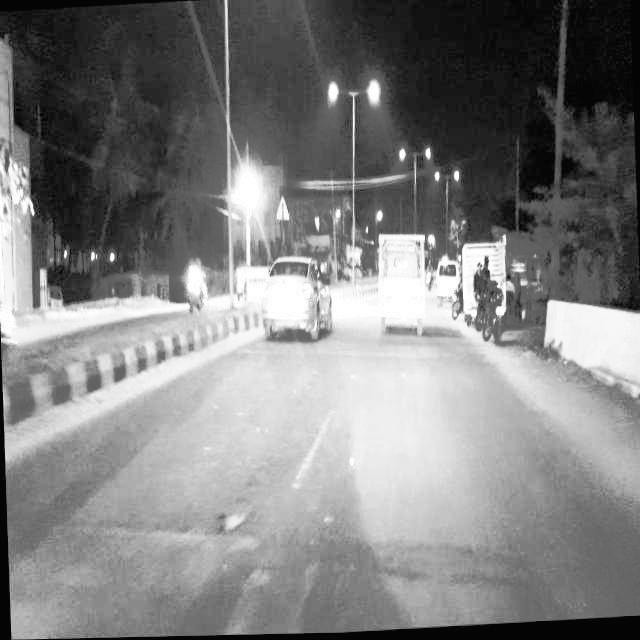Person: (264, 254, 334, 344)
Pothole: (210, 498, 252, 543)
